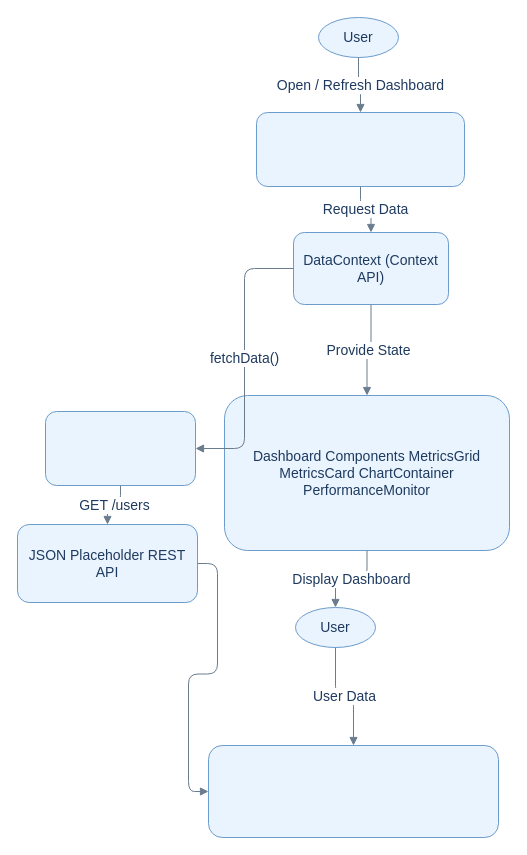
The diagram is 527 pixels wide and 855 high, and some of its shapes have lost their labels. Each missing label, with the centre of its shape:
Dashboard UI (React Dashboard): the point at 360,149
dashboardData.js generateDashboardData(): the point at 353,791
DataManager (Service Layer): the point at 120,448
